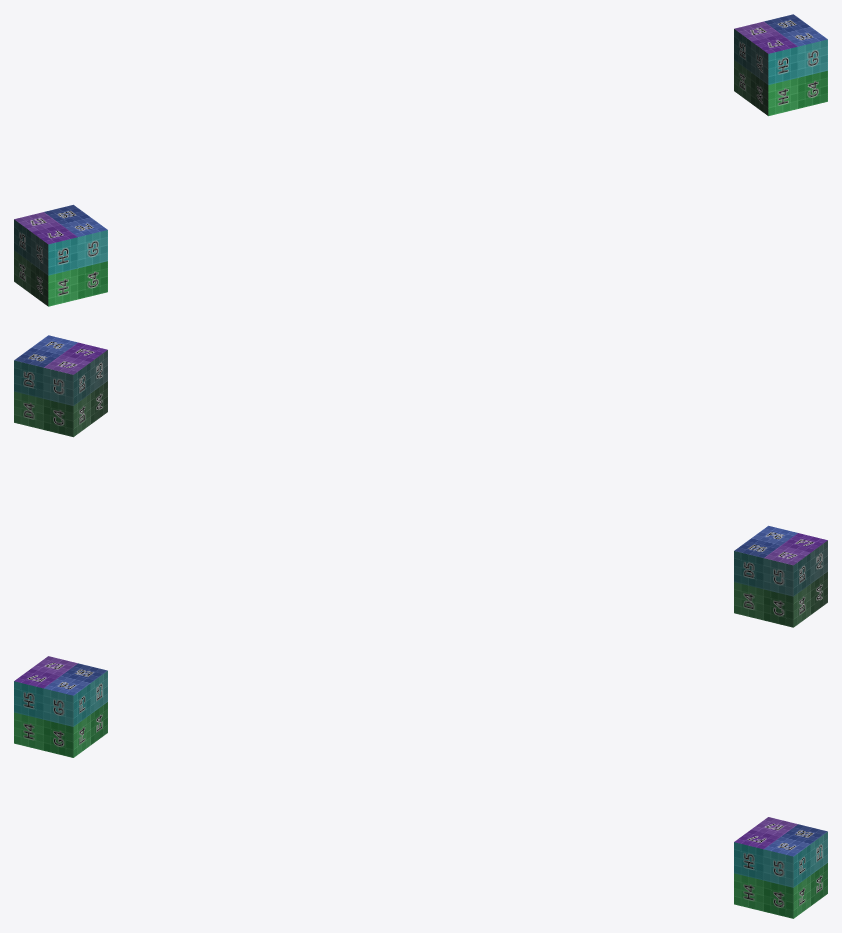
Rendered from debug-text.gltf.
The picture shows the model from 3 angles, top to bottom: view 1: azimuth 30°, elevation 25°; view 2: azimuth 150°, elevation 25°; view 3: azimuth 330°, elevation 25°; orthographic projection.
Visible parts, largest first — view 1: Cube, Cube.001; view 2: Cube, Cube.001; view 3: Cube, Cube.001.
Part boxes in pixels (left/top/right/bottom): Cube: left=14, top=204, right=107, bottom=306; Cube.001: left=734, top=14, right=827, bottom=116; Cube: left=734, top=525, right=827, bottom=627; Cube.001: left=14, top=335, right=107, bottom=437; Cube: left=14, top=656, right=107, bottom=757; Cube.001: left=734, top=817, right=827, bottom=918.
Bounding box in the file's own units: 4.4 × 0.4163 × 0.3363.
Materials: 1 (1 with a texture image).
